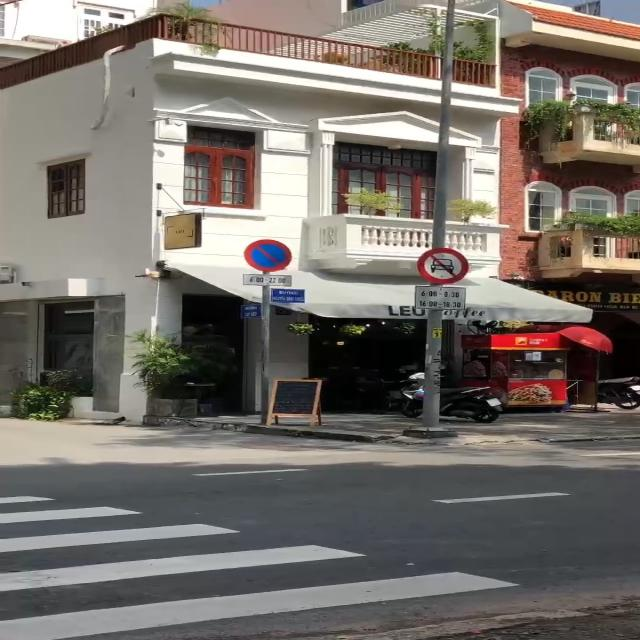Bien bao cam do xe: (240, 238, 292, 274)
Bien bao cam xe oto: (414, 245, 470, 285)
